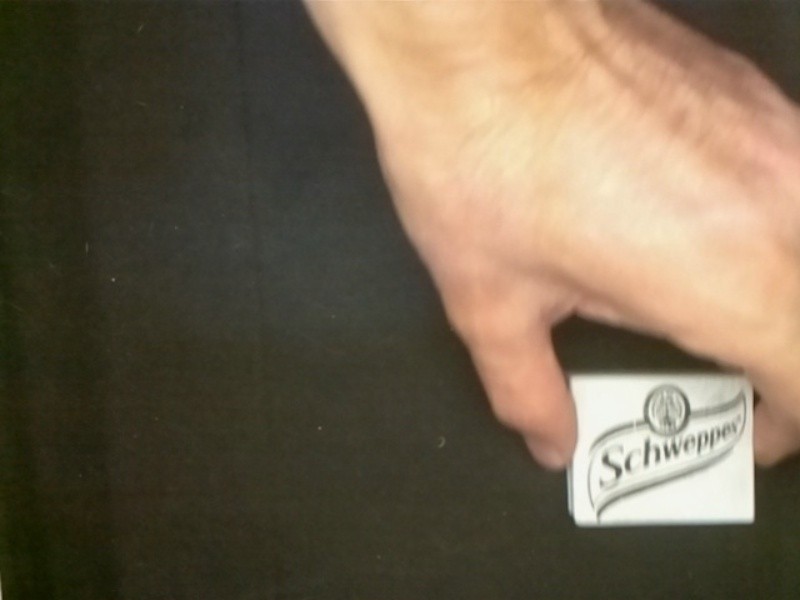schweppes: (572, 369, 757, 529)
